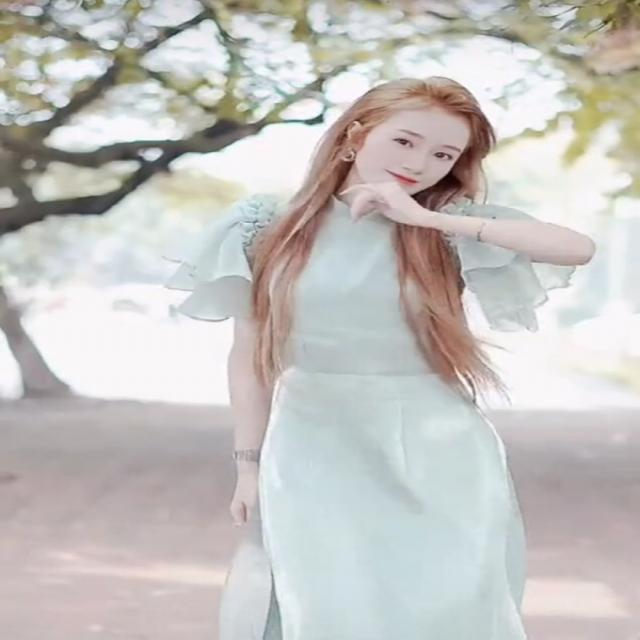clothes: (164, 190, 579, 638)
